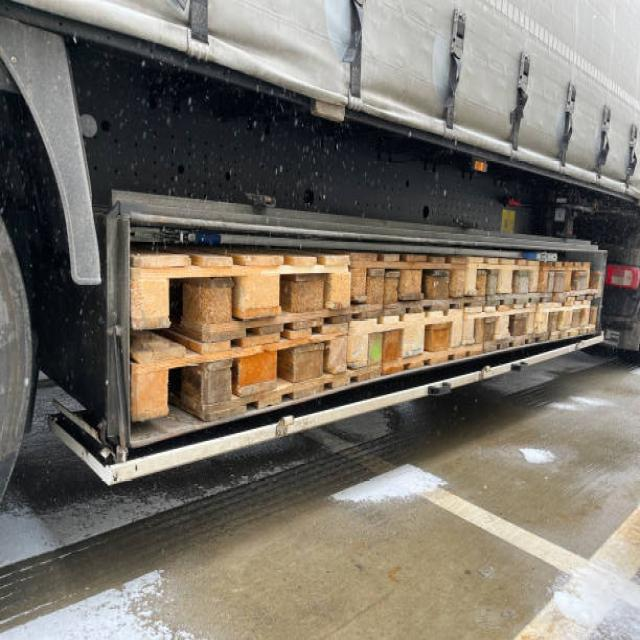Wooden-Pallets: (129, 320, 352, 424), (124, 249, 351, 335), (353, 251, 476, 318), (356, 317, 462, 382), (466, 302, 547, 351), (469, 254, 544, 303), (536, 254, 600, 297), (540, 299, 595, 348)
